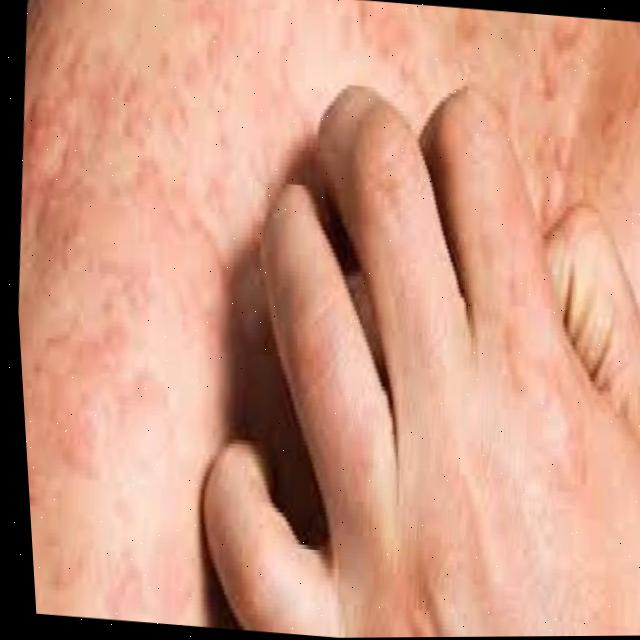Eczema: (3, 40, 170, 549), (355, 0, 573, 144)
